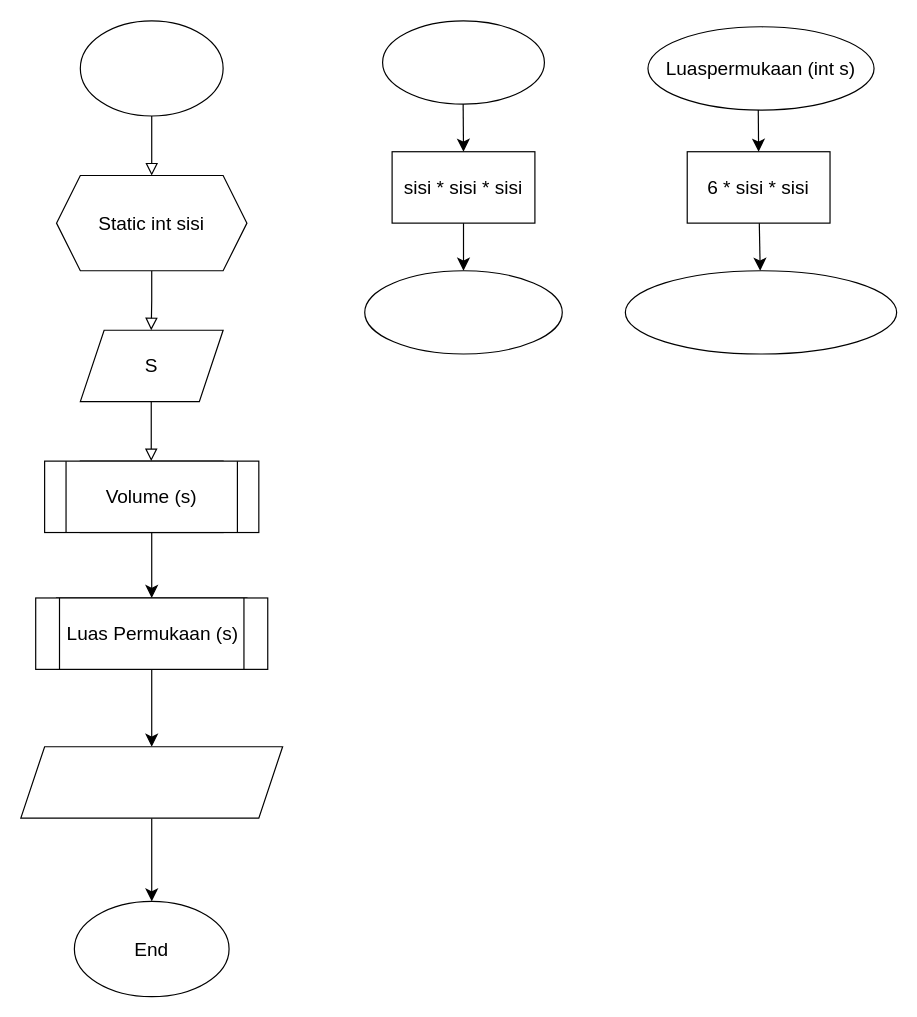
This 917x1017 diagram has some shape labels left out. The shapes that lost their labels are listed below. From the top down, each one's box as (x1, y1, x2, y2) in pixels, then its label:
(79, 20, 223, 116): Start
(381, 20, 544, 104): Volume (int s)
(364, 270, 562, 354): return hitungvolume
(624, 270, 897, 354): return hitungluaspermukaan
(20, 746, 283, 818): Volume, Luas permukaan
